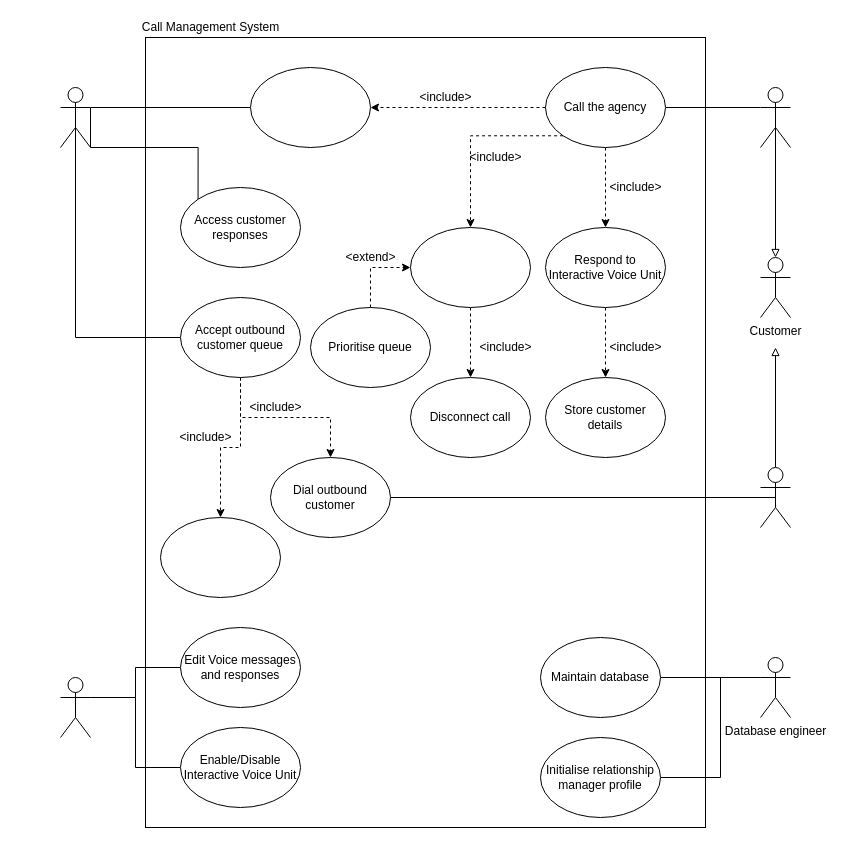
The diagram is 845 pixels wide and 845 high, and some of its shapes have lost their labels. The shapes that lost their labels are listed below. From the top down, each one's centre as x and y in pixels, then its label:
point 75,117: Relationship Manager
point 310,107: Connect relationship manager and customer
point 775,117: Inbound customer
point 470,267: Wait in queue
point 775,497: Outbound customer
point 220,557: Retrieve customer data
point 75,707: Call engineer
